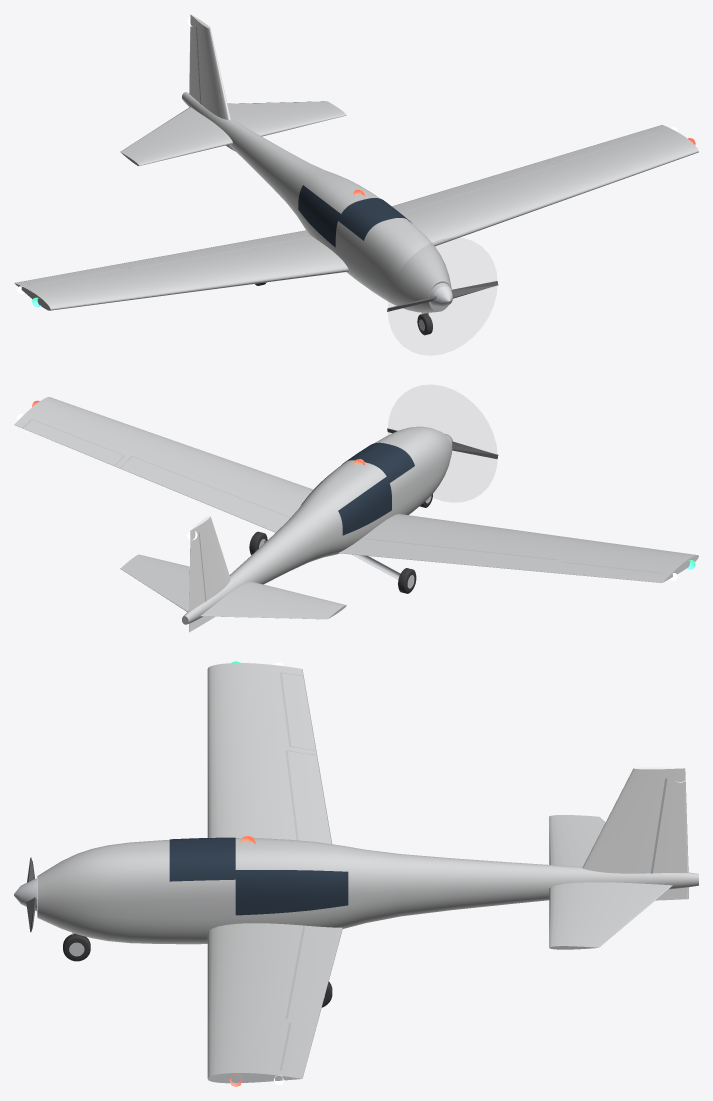
3 views of the same model, one above another, from view 1: azimuth 30°, elevation 25°; view 2: azimuth 150°, elevation 25°; view 3: azimuth 270°, elevation 25° (orthographic). The views are drawn at different scales.
Visible parts, largest first — view 1: airframe, prop; view 2: airframe; view 3: airframe.
Part boxes in pixels (<box>): airframe: <box>14,14,698,335</box>; prop: <box>387,281,498,311</box>; airframe: <box>14,397,698,632</box>; airframe: <box>14,661,698,1086</box>.
Bounding box in the file's own units: 10.92 × 2.45 × 7.56.
